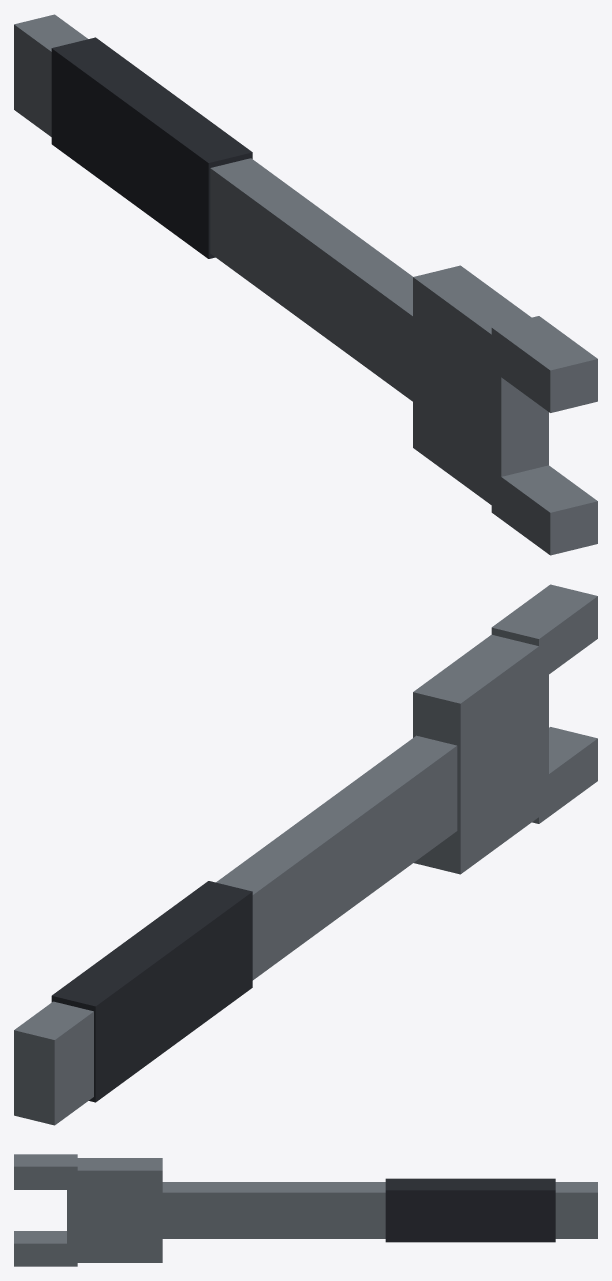
The model's file is wrench.glb.
3 renders of one model, top to bottom at view 1: azimuth 30°, elevation 25°; view 2: azimuth 150°, elevation 25°; view 3: azimuth 270°, elevation 25°, orthographic. The views are drawn at different scales.
Visible parts, largest first — view 1: wrench_mesh; view 2: wrench_mesh; view 3: wrench_mesh.
Boxes of the visible parts, x1,y1,x2,y2 form: wrench_mesh: [14, 14, 597, 555]; wrench_mesh: [14, 584, 597, 1125]; wrench_mesh: [14, 1154, 597, 1266].
Size of the model in its own units: 0.014 by 0.052 by 0.275.
1 material, 1 textured.
